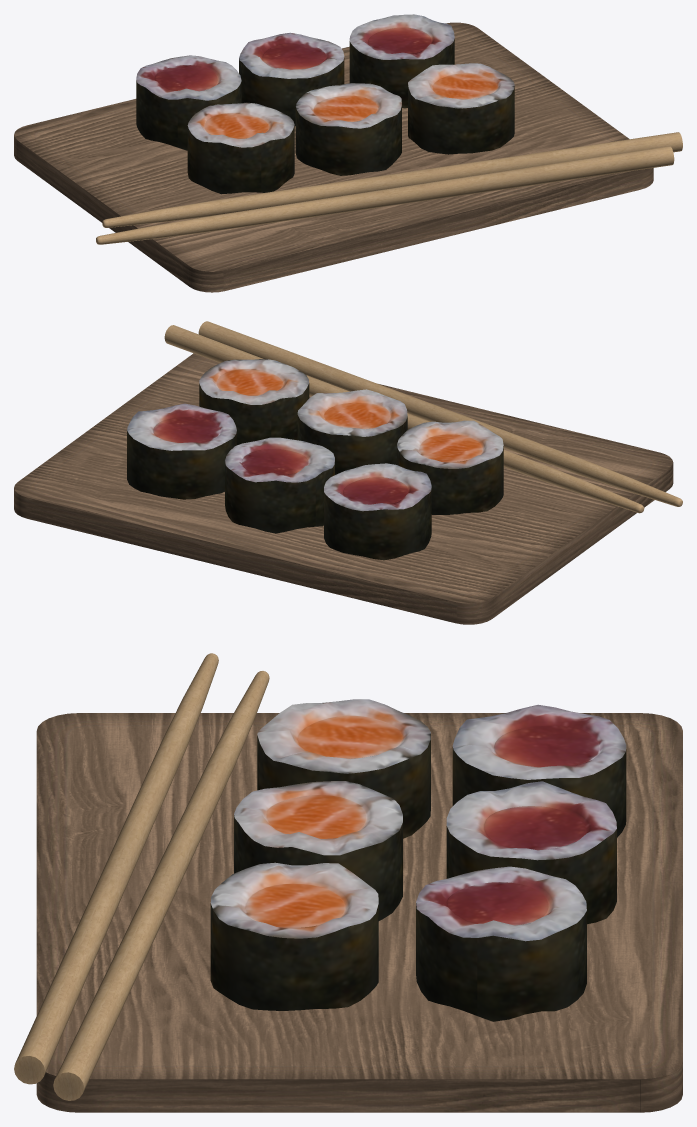
The picture shows the model from 3 angles, top to bottom: view 1: azimuth 30°, elevation 25°; view 2: azimuth 150°, elevation 25°; view 3: azimuth 270°, elevation 25°; orthographic projection. The views are drawn at different scales.
Parts seen in each view (by area): view 1: Plate, Sushi, Sticks; view 2: Plate, Sushi, Sticks; view 3: Plate, Sushi, Sticks.
Boxes of the visible parts, <box> form: Plate: <box>14,22,653,292</box>; Sushi: <box>136,14,514,194</box>; Sticks: <box>96,132,682,244</box>; Plate: <box>14,353,673,624</box>; Sushi: <box>127,358,503,560</box>; Sticks: <box>164,321,682,513</box>; Plate: <box>36,713,682,1112</box>; Sushi: <box>210,699,626,1021</box>; Sticks: <box>14,653,269,1100</box>.
Size of the model in its own units: 11.94 by 1.57 by 7.84.
3 materials, 3 textured.
